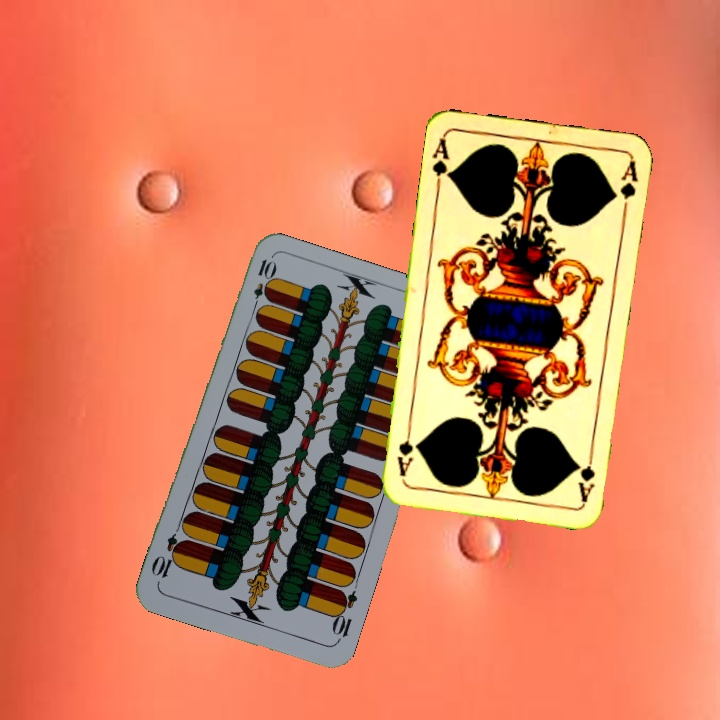E10: (327, 586, 360, 645), (248, 254, 276, 314)
GA: (428, 133, 455, 192), (574, 445, 598, 505)
